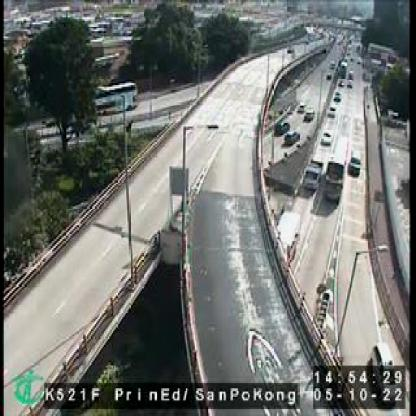Bus: (324, 135, 347, 198)
Car: (347, 147, 361, 175), (283, 130, 298, 144), (274, 119, 288, 134), (318, 130, 332, 144), (304, 107, 315, 119), (328, 106, 336, 118), (298, 100, 306, 111)
Truck: (304, 149, 325, 186)
